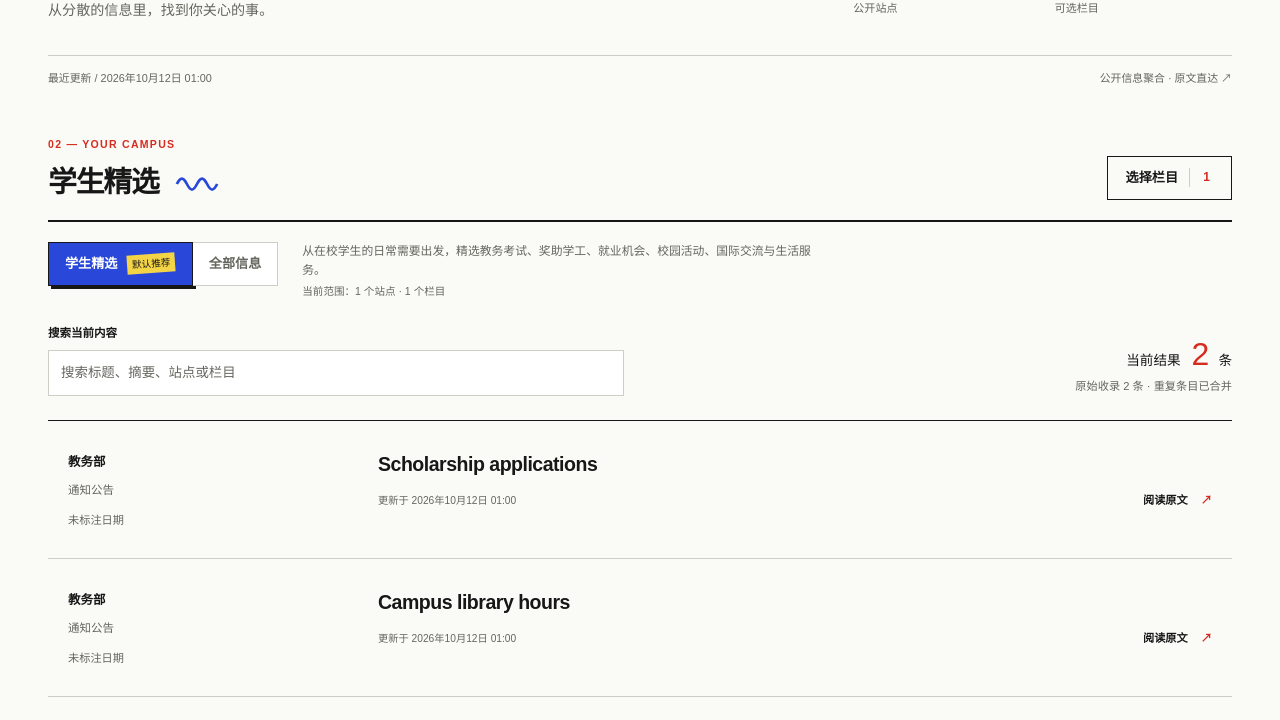
App reading and filtering › searches locally, filters a channel, and restores default selection
(page scrolled)
Step 1. Type "library" into the search field labelled "搜索当前内容" → x=336, y=373, box x1=48 y1=350 x2=624 y2=396
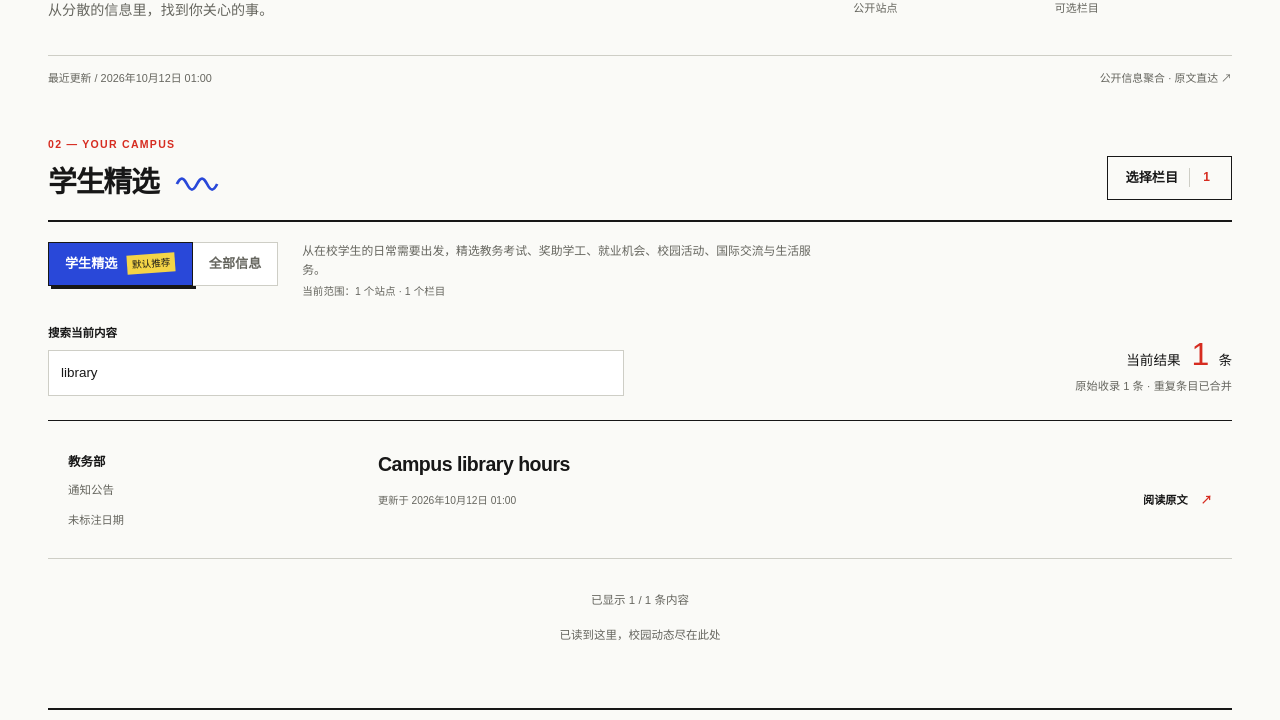
Check: the link "Campus library hours" is shown, box x1=68 y1=453 x2=1212 y2=526
Check: the link "Scholarship applications" is gone
Step 2. Click the button "选择栏目 1" → x=1169, y=178, box x1=1106 y1=156 x2=1232 y2=200
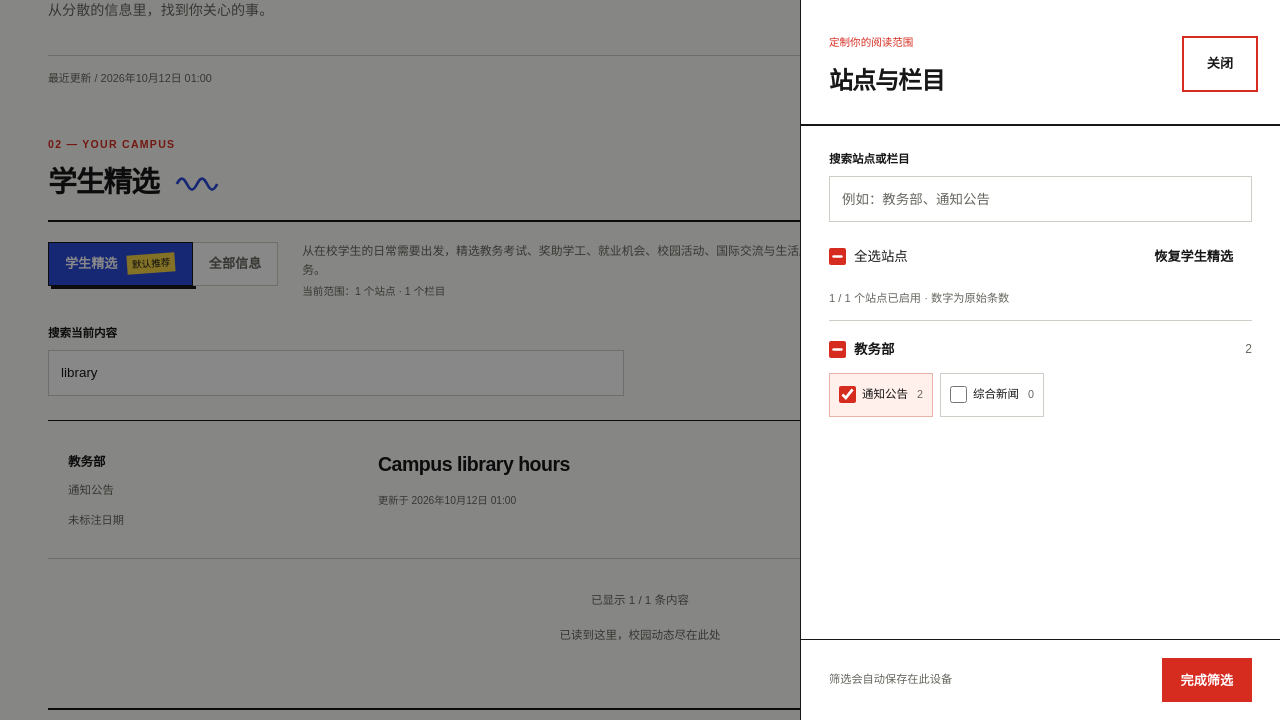
Step 3. Click the checkbox labelled "通知公告 2" → x=848, y=395, box x1=839 y1=386 x2=856 y2=403
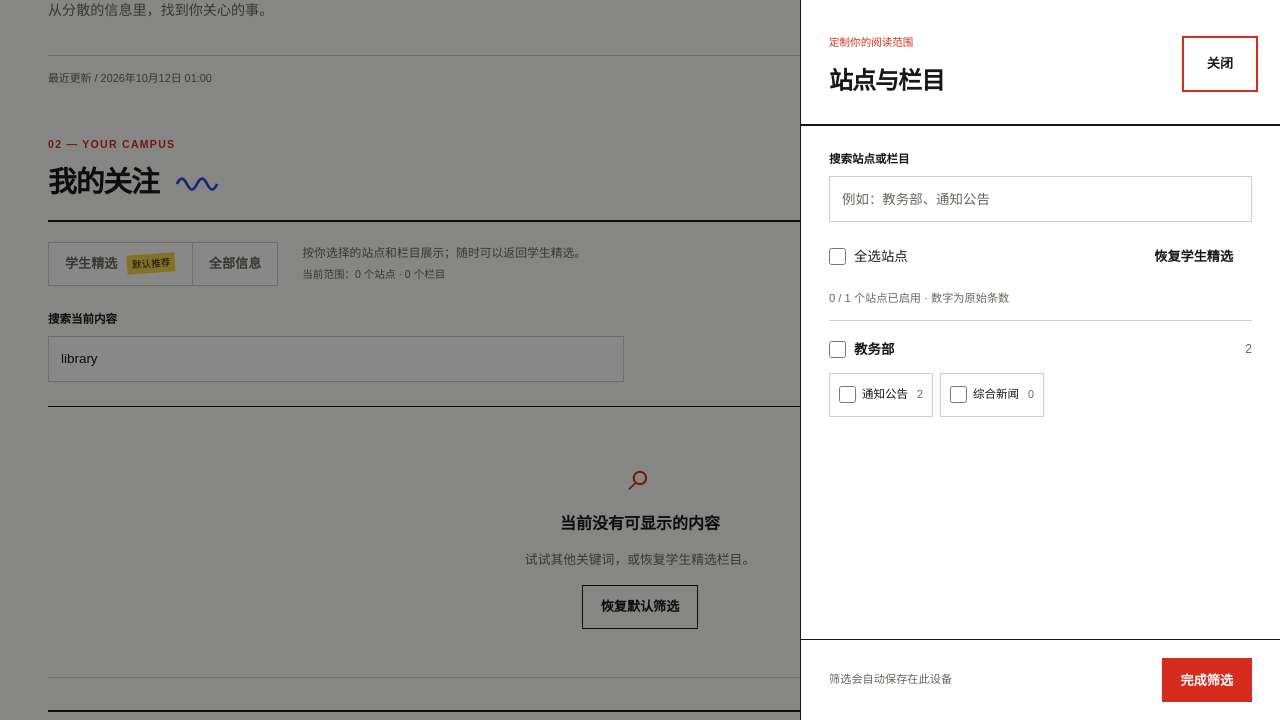
Step 4. Click the button "完成筛选" → x=1207, y=680, box x1=1162 y1=658 x2=1252 y2=702
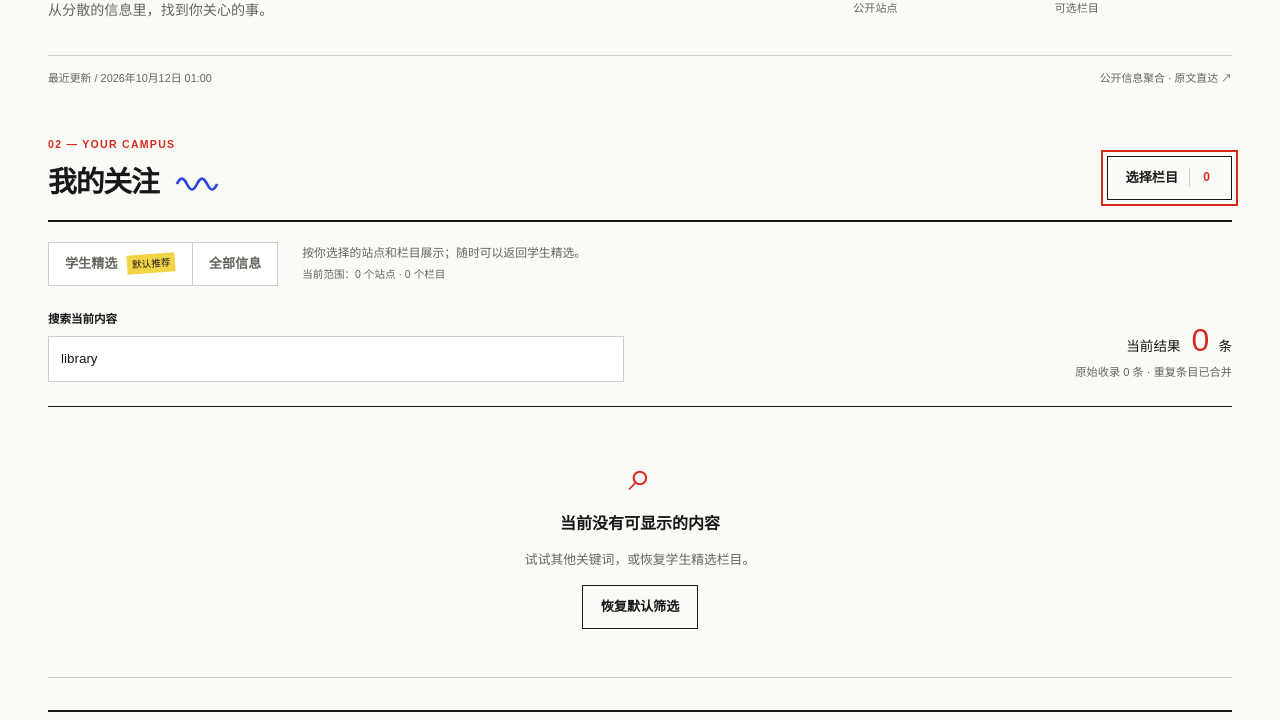
Check: the text "当前没有可显示的内容" is shown, box x1=560 y1=511 x2=720 y2=536
Step 5. Click the button "恢复默认筛选" → x=640, y=607, box x1=582 y1=585 x2=698 y2=629
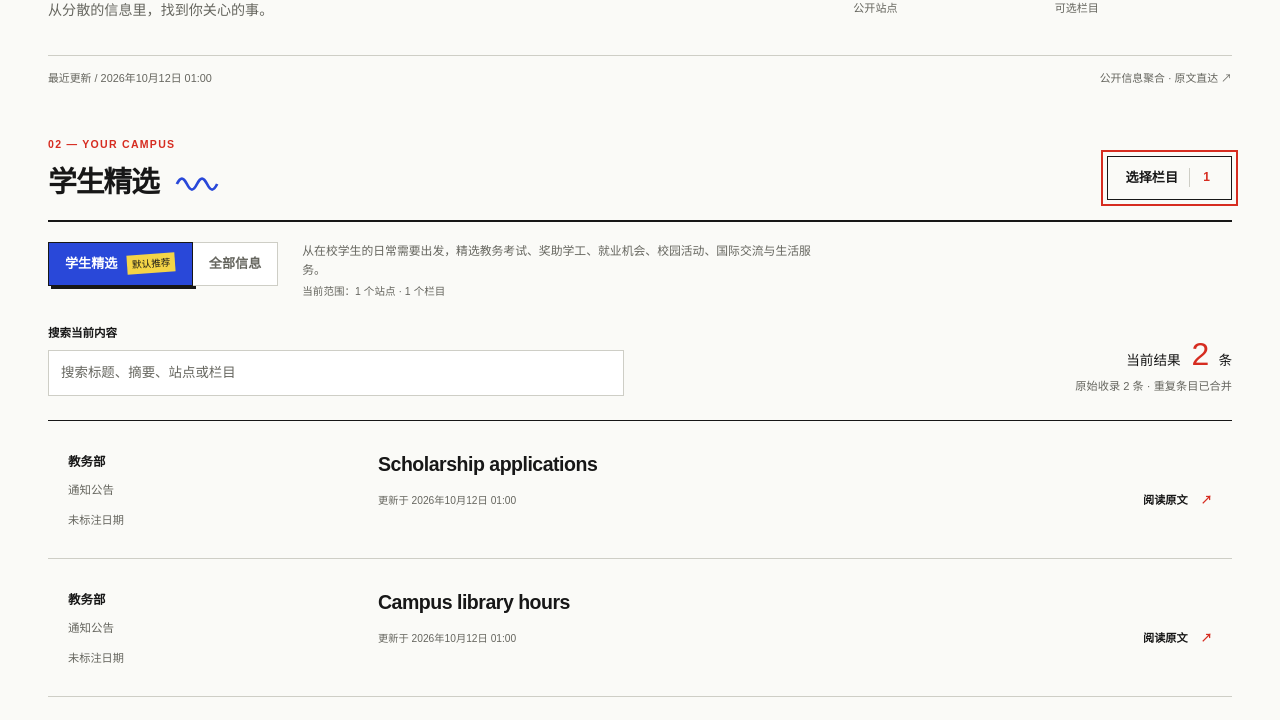
Check: the link "Scholarship applications" is shown, box x1=68 y1=453 x2=1212 y2=526
Check: the search field labelled "搜索当前内容" is empty, box x1=48 y1=350 x2=624 y2=396
